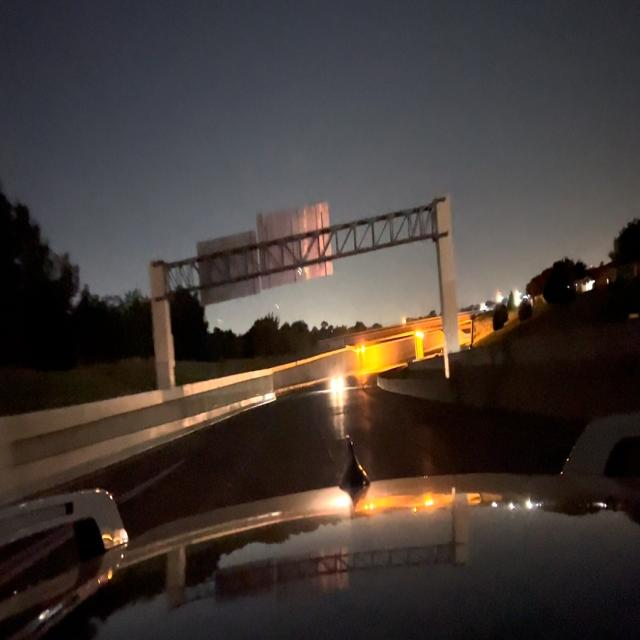back-of-sign: (261, 211, 336, 287), (198, 233, 260, 300)
